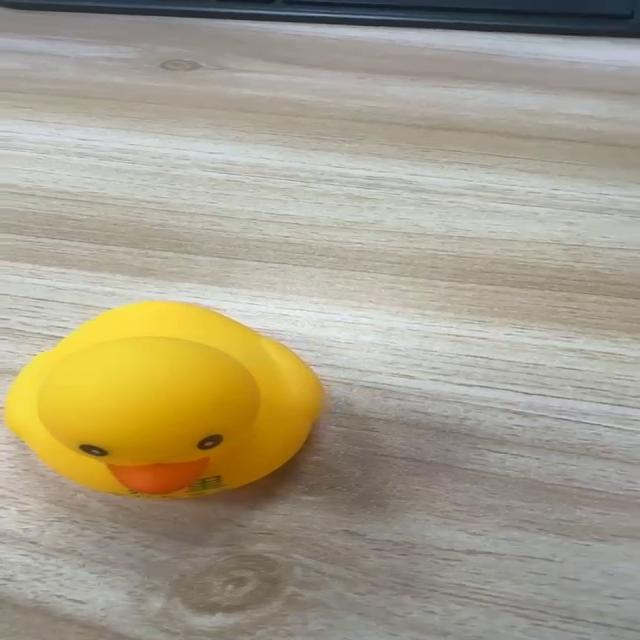yellow_duck: (3, 299, 324, 500)
